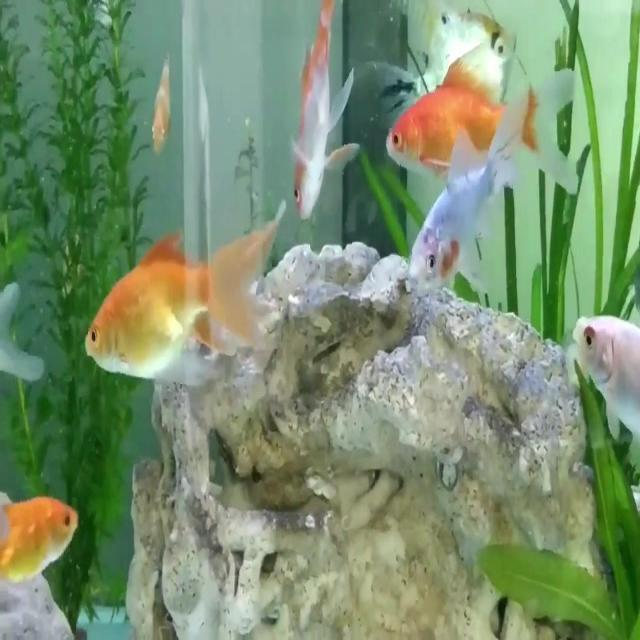GoldFish: (79, 215, 293, 425), (380, 42, 590, 200), (287, 0, 352, 231), (0, 473, 84, 597)
